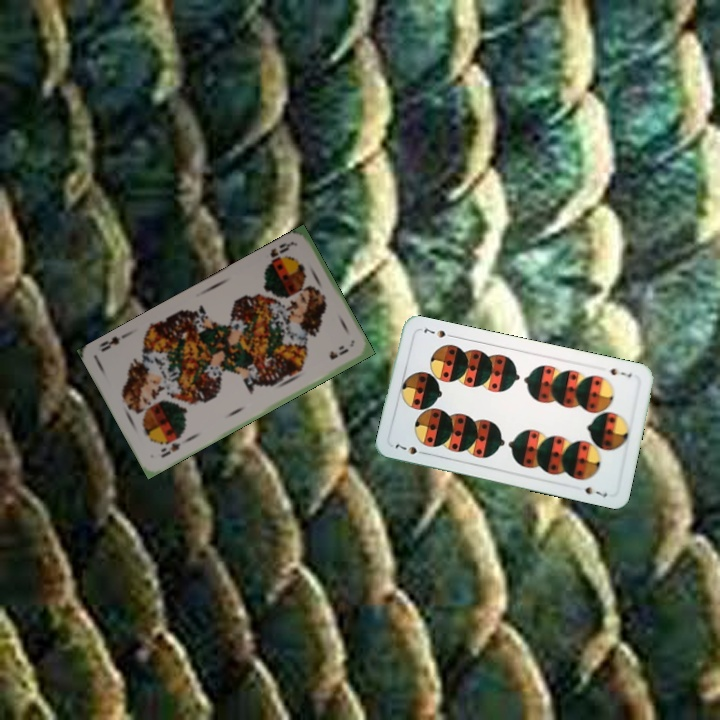S7: (391, 440, 429, 457), (606, 364, 635, 380)
SO: (263, 238, 298, 270), (157, 439, 183, 460)
